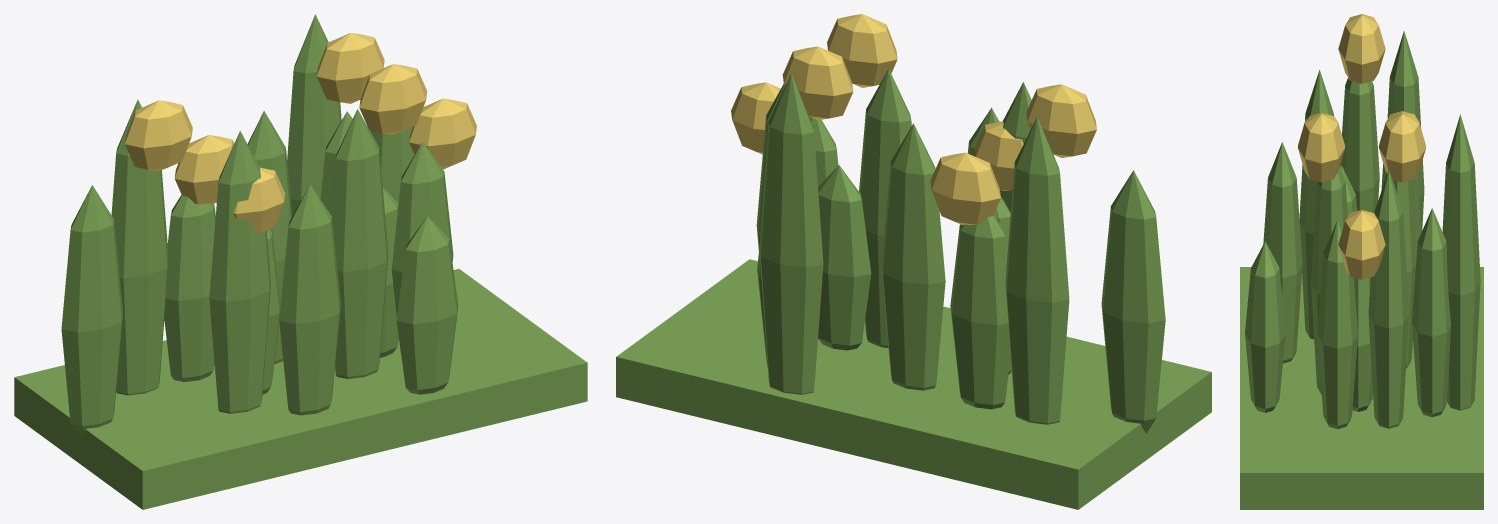
Rendered from GG-VEG-GROUND-COVER-SUCCULENT-001_LOD_CLOSE.glb.
3 renders of one model, left to right at view 1: azimuth 30°, elevation 25°; view 2: azimuth 150°, elevation 25°; view 3: azimuth 270°, elevation 25°, orthographic. The views are drawn at different scales.
Visible parts, largest first — view 1: GG_VEG_MOD_BASE_001, GG_VEG_MODULE_10, GG_VEG_MODULE_13, GG_VEG_MODULE_8, GG_VEG_MODULE_7, GG_VEG_MODULE_11, GG_VEG_MODULE_12, GG_VEG_MODULE_6, GG_VEG_MODULE_4, GG_VEG_MODULE_14, GG_VEG_ACCENT_4, GG_VEG_ACCENT_6 (+9 smaller); view 2: GG_VEG_MOD_BASE_001, GG_VEG_MODULE_4, GG_VEG_MODULE_7, GG_VEG_MODULE_5, GG_VEG_MODULE_8, GG_VEG_MODULE_6, GG_VEG_MODULE_1, GG_VEG_MODULE_13, GG_VEG_ACCENT_3, GG_VEG_ACCENT_4, GG_VEG_ACCENT_2, GG_VEG_ACCENT_6 (+5 smaller); view 3: GG_VEG_MOD_BASE_001, GG_VEG_MODULE_4, GG_VEG_MODULE_2, GG_VEG_MODULE_3, GG_VEG_MODULE_14, GG_VEG_MODULE_12, GG_VEG_MODULE_11, GG_VEG_MODULE_8, GG_VEG_MODULE_13, GG_VEG_MODULE_10, GG_VEG_ACCENT_6, GG_VEG_ACCENT_1 (+7 smaller).
Part boxes in pixels (<box>): GG_VEG_MOD_BASE_001: <box>14,269,587,509</box>; GG_VEG_MODULE_10: <box>209,131,270,413</box>; GG_VEG_MODULE_13: <box>331,109,388,378</box>; GG_VEG_MODULE_8: <box>61,185,123,438</box>; GG_VEG_MODULE_7: <box>111,99,168,395</box>; GG_VEG_MODULE_11: <box>279,184,340,415</box>; GG_VEG_MODULE_12: <box>396,216,458,394</box>; GG_VEG_MODULE_6: <box>164,195,215,381</box>; GG_VEG_MODULE_4: <box>287,14,341,215</box>; GG_VEG_MODULE_14: <box>391,141,453,352</box>; GG_VEG_ACCENT_4: <box>125,100,192,171</box>; GG_VEG_ACCENT_6: <box>359,64,427,134</box>; GG_VEG_MOD_BASE_001: <box>616,259,1211,509</box>; GG_VEG_MODULE_4: <box>759,73,823,394</box>; GG_VEG_MODULE_7: <box>1005,117,1069,424</box>; GG_VEG_MODULE_5: <box>881,123,945,390</box>; GG_VEG_MODULE_8: <box>1101,170,1165,433</box>; GG_VEG_MODULE_6: <box>950,215,1010,409</box>; GG_VEG_MODULE_1: <box>818,165,871,350</box>; GG_VEG_MODULE_13: <box>859,68,911,347</box>; GG_VEG_ACCENT_3: <box>930,152,1000,224</box>; GG_VEG_ACCENT_4: <box>1026,84,1096,157</box>; GG_VEG_ACCENT_2: <box>782,46,853,120</box>; GG_VEG_ACCENT_6: <box>827,14,897,87</box>; GG_VEG_MOD_BASE_001: <box>1240,267,1483,509</box>; GG_VEG_MODULE_4: <box>1442,114,1480,410</box>; GG_VEG_MODULE_2: <box>1368,169,1408,428</box>; GG_VEG_MODULE_3: <box>1412,208,1450,417</box>; GG_VEG_MODULE_14: <box>1317,220,1357,429</box>; GG_VEG_MODULE_12: <box>1245,241,1285,412</box>; GG_VEG_MODULE_11: <box>1263,142,1302,363</box>; GG_VEG_MODULE_8: <box>1340,78,1379,213</box>; GG_VEG_MODULE_13: <box>1311,165,1347,394</box>; GG_VEG_MODULE_10: <box>1299,70,1333,339</box>; GG_VEG_ACCENT_6: <box>1298,113,1344,182</box>; GG_VEG_ACCENT_1: <box>1338,210,1385,279</box>.
Size of the model in its own units: 0.7499 by 0.5487 by 0.36.
